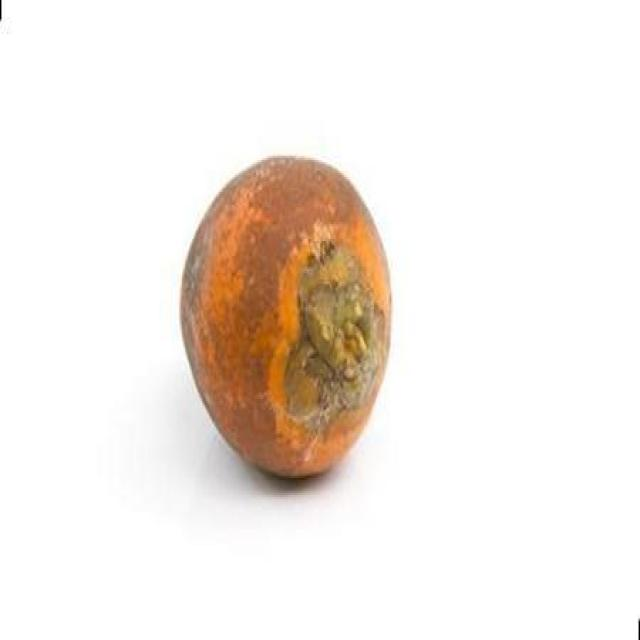good: (179, 156, 394, 480)
